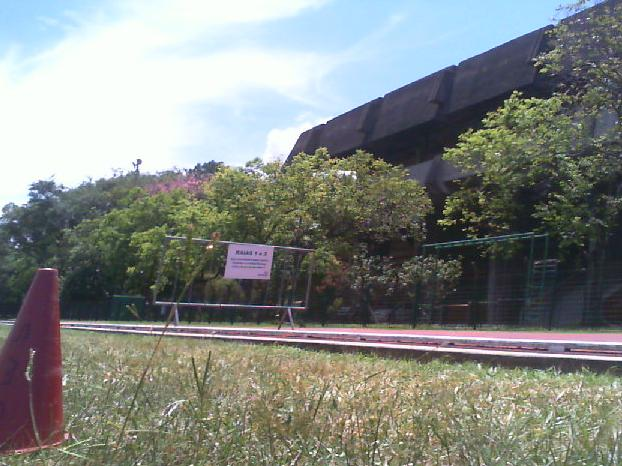0 cone: (0, 268, 69, 457)
